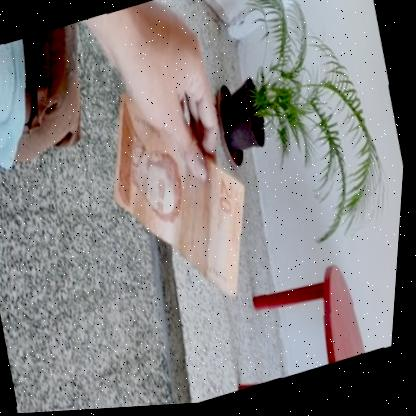vef_front: (85, 61, 280, 333)
